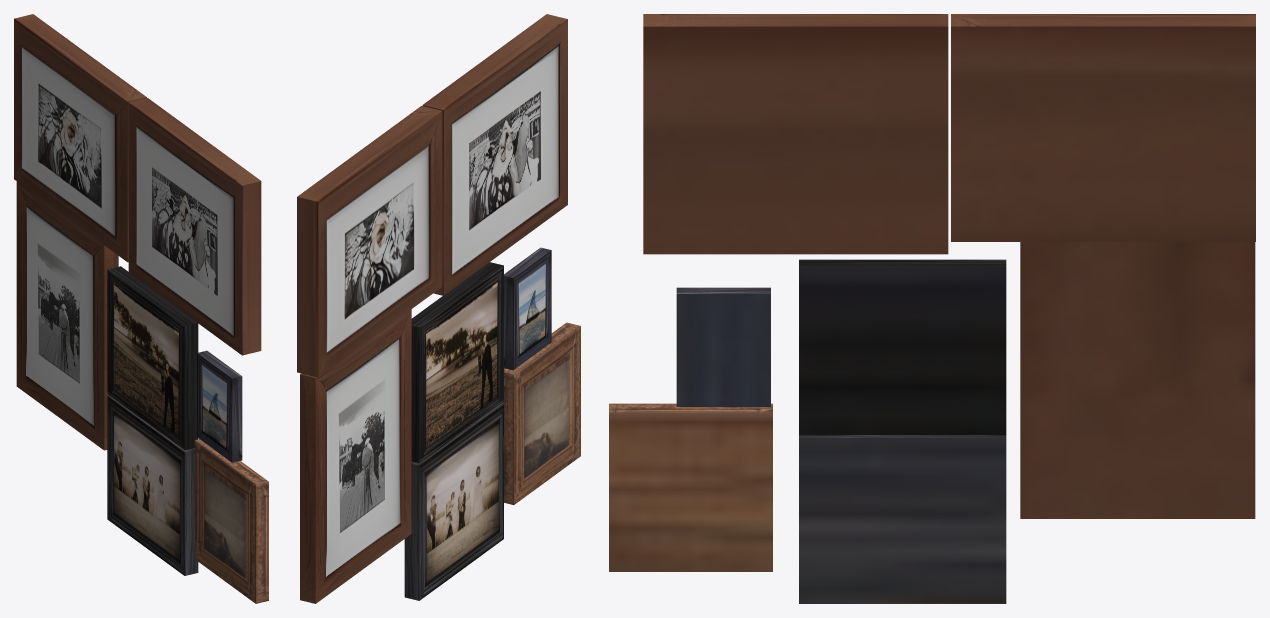
File: Picture Frame.fbx
3 views of the same model, side by side, from view 1: azimuth 30°, elevation 25°; view 2: azimuth 150°, elevation 25°; view 3: azimuth 270°, elevation 25° (orthographic). The views are drawn at different scales.
Parts seen in each view (by area): view 1: Picture_frames_001, Picture_frames, Picture_frames_002, Picture_frames_003, Picture_frames_004, Picture_frames_005, Picture_frames_006; view 2: Picture_frames, Picture_frames_001, Picture_frames_002, Picture_frames_003, Picture_frames_004, Picture_frames_005, Picture_frames_006; view 3: Picture_frames_001, Picture_frames, Picture_frames_002, Picture_frames_003, Picture_frames_004, Picture_frames_005, Picture_frames_006.
Part boxes in pixels (left/top/right/bottom): Picture_frames_001: left=128, top=98, right=261, bottom=355; Picture_frames: left=14, top=14, right=146, bottom=262; Picture_frames_002: left=16, top=181, right=118, bottom=450; Picture_frames_003: left=107, top=266, right=198, bottom=449; Picture_frames_004: left=107, top=395, right=198, bottom=575; Picture_frames_005: left=195, top=439, right=268, bottom=603; Picture_frames_006: left=197, top=350, right=242, bottom=462; Picture_frames: left=297, top=106, right=442, bottom=377; Picture_frames_001: left=422, top=14, right=567, bottom=295; Picture_frames_002: left=300, top=309, right=411, bottom=603; Picture_frames_003: left=411, top=262, right=503, bottom=463; Picture_frames_004: left=404, top=403, right=503, bottom=600; Picture_frames_005: left=502, top=322, right=580, bottom=504; Picture_frames_006: left=504, top=247, right=551, bottom=370; Picture_frames_001: left=643, top=14, right=948, bottom=254; Picture_frames: left=951, top=14, right=1255, bottom=241; Picture_frames_002: left=1020, top=242, right=1255, bottom=518; Picture_frames_003: left=799, top=259, right=1006, bottom=434; Picture_frames_004: left=799, top=435, right=1006, bottom=603; Picture_frames_005: left=609, top=403, right=772, bottom=571; Picture_frames_006: left=676, top=287, right=770, bottom=406.
Bounding box in the file's own units: 3.22 × 69.31 × 69.95.
